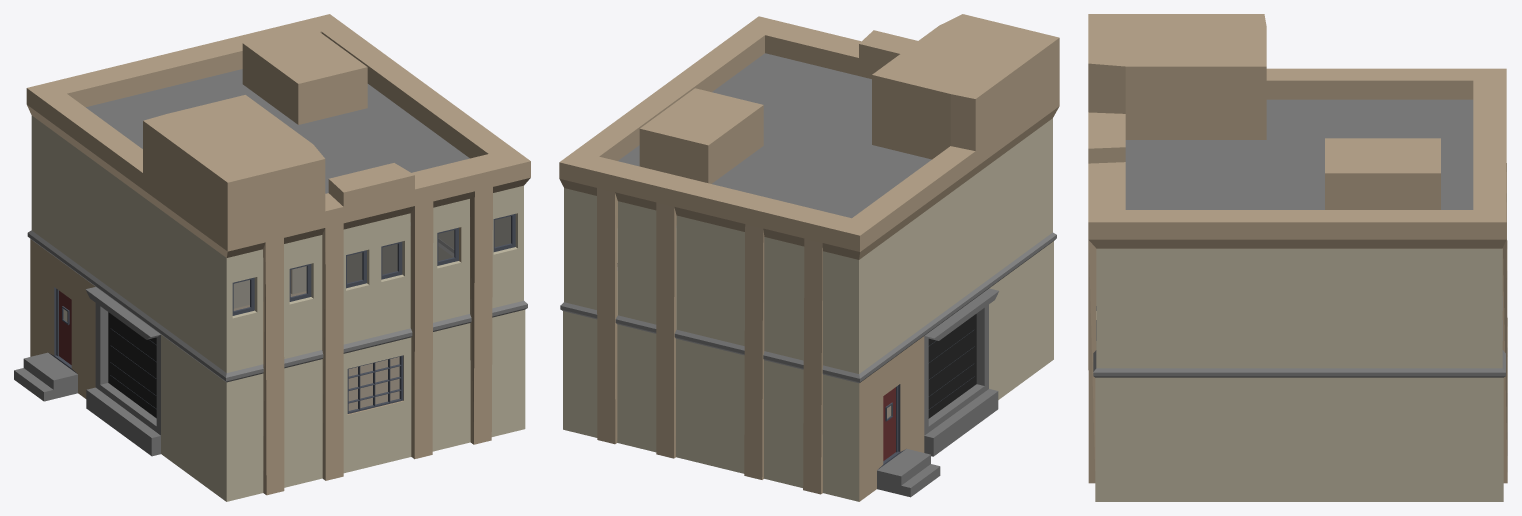
Rendered from industrial1.fbx.
3 renders of one model, left to right at view 1: azimuth 30°, elevation 25°; view 2: azimuth 150°, elevation 25°; view 3: azimuth 270°, elevation 25°, orthographic. The views are drawn at different scales.
Parts seen in each view (by area): view 1: Cube; view 2: Cube; view 3: Cube.
Boxes of the visible parts, bbox=[...] form: Cube: bbox=[14, 14, 530, 501]; Cube: bbox=[559, 14, 1059, 501]; Cube: bbox=[1088, 14, 1507, 501].
Bounding box in the file's own units: 1523 × 1400 × 1588.
